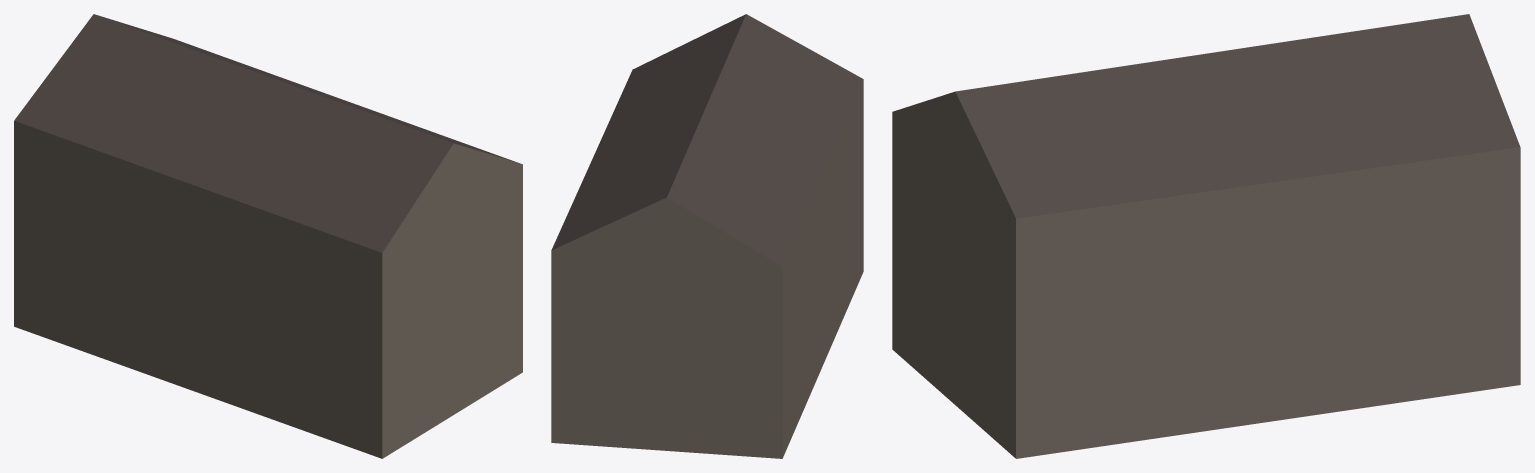
The picture shows the model from 3 angles, left to right: view 1: azimuth 30°, elevation 25°; view 2: azimuth 150°, elevation 25°; view 3: azimuth 270°, elevation 25°; orthographic projection. The views are drawn at different scales.
Visible parts, largest first — view 1: HP-w1198645083; view 2: HP-w1198645083; view 3: HP-w1198645083.
Part boxes in pixels (bbox=[...]): HP-w1198645083: bbox=[14, 14, 522, 458]; HP-w1198645083: bbox=[551, 14, 863, 458]; HP-w1198645083: bbox=[892, 14, 1520, 458].
Bounding box in the file's own units: 10.2 × 7.91 × 14.36.
